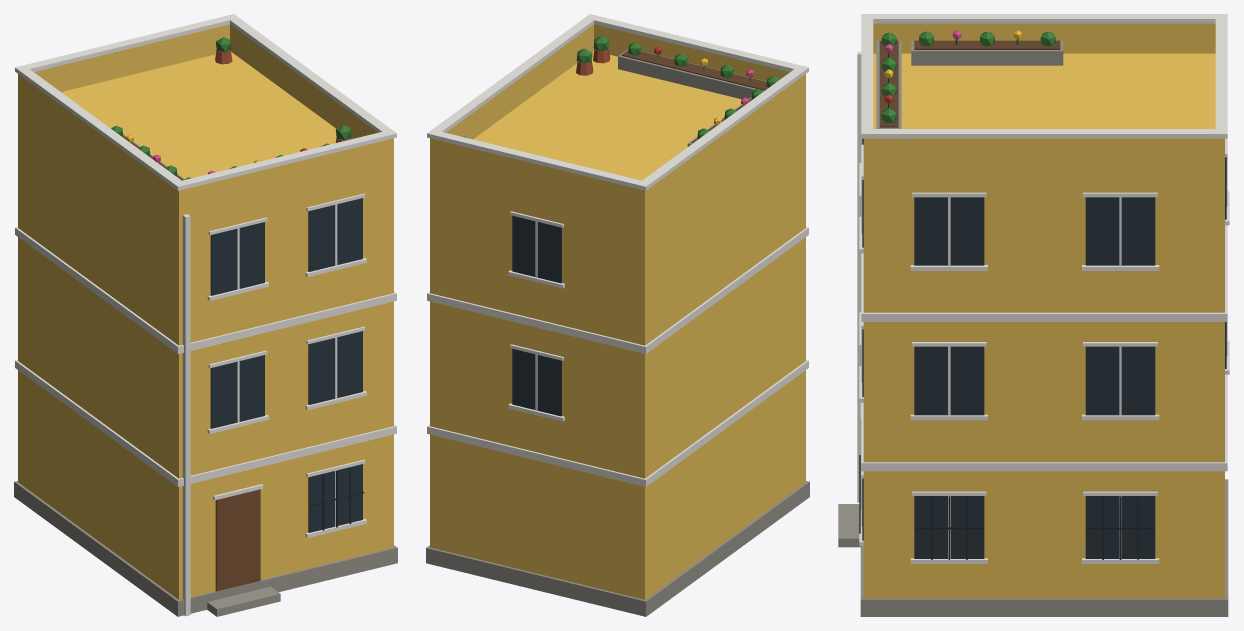
File: BAY_F_Corner_M.glb
3 views of the same model, side by side, from view 1: azimuth 30°, elevation 25°; view 2: azimuth 150°, elevation 25°; view 3: azimuth 270°, elevation 25° (orthographic). The views are drawn at different scales.
Parts seen in each view (by area): view 1: BAY_F_Corner_M; view 2: BAY_F_Corner_M; view 3: BAY_F_Corner_M.
Boxes of the visible parts, <box> form: BAY_F_Corner_M: <box>14,14,397,616</box>; BAY_F_Corner_M: <box>426,14,809,616</box>; BAY_F_Corner_M: <box>838,14,1229,616</box>.
Bounding box in the file's own units: 4.52 × 8.4 × 6.17.
1 material, 1 textured.
